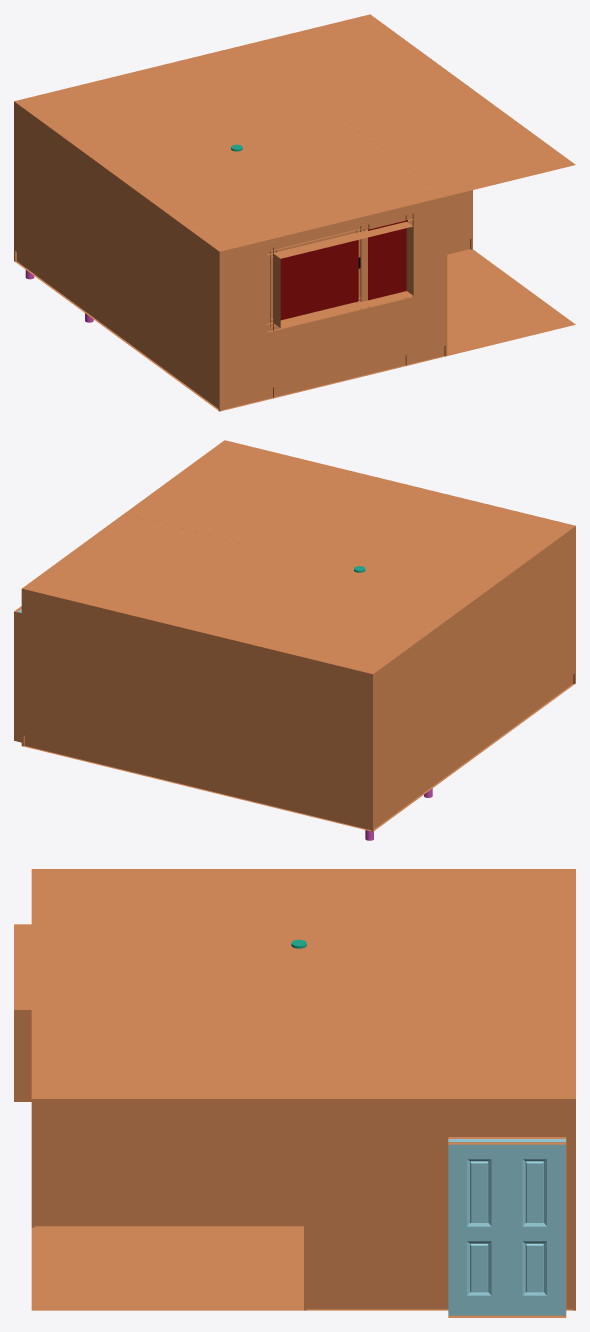
File: Bedroom.obj
The picture shows the model from 3 angles, top to bottom: view 1: azimuth 30°, elevation 25°; view 2: azimuth 150°, elevation 25°; view 3: azimuth 270°, elevation 25°; orthographic projection. The views are drawn at different scales.
Parts seen in each view (by area): view 1: Object01, Walls, Floor, Plane01, Box01, Window_Frame; view 2: Walls, Object01, Box01, Floor; view 3: Object01, Walls, Floor, Box02, Box01, Window_Frame.
Boxes of the visible parts, <box> form: Object01: <box>14,14,575,251</box>; Walls: <box>14,101,472,400</box>; Floor: <box>16,249,575,407</box>; Plane01: <box>280,220,407,320</box>; Box01: <box>14,238,472,411</box>; Window_Frame: <box>267,213,413,332</box>; Walls: <box>21,526,575,820</box>; Object01: <box>22,440,575,673</box>; Box01: <box>14,606,575,831</box>; Floor: <box>24,684,573,830</box>; Object01: <box>31,869,575,1098</box>; Walls: <box>31,1099,575,1295</box>; Floor: <box>31,1145,572,1310</box>; Box02: <box>448,1139,565,1315</box>; Box01: <box>31,1137,575,1317</box>; Window_Frame: <box>14,924,31,1101</box>.
Size of the model in its own units: 285 by 130 by 285.
